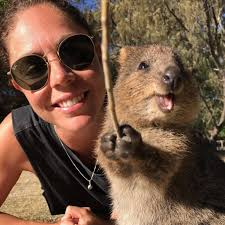quokka: (89, 34, 225, 225)
